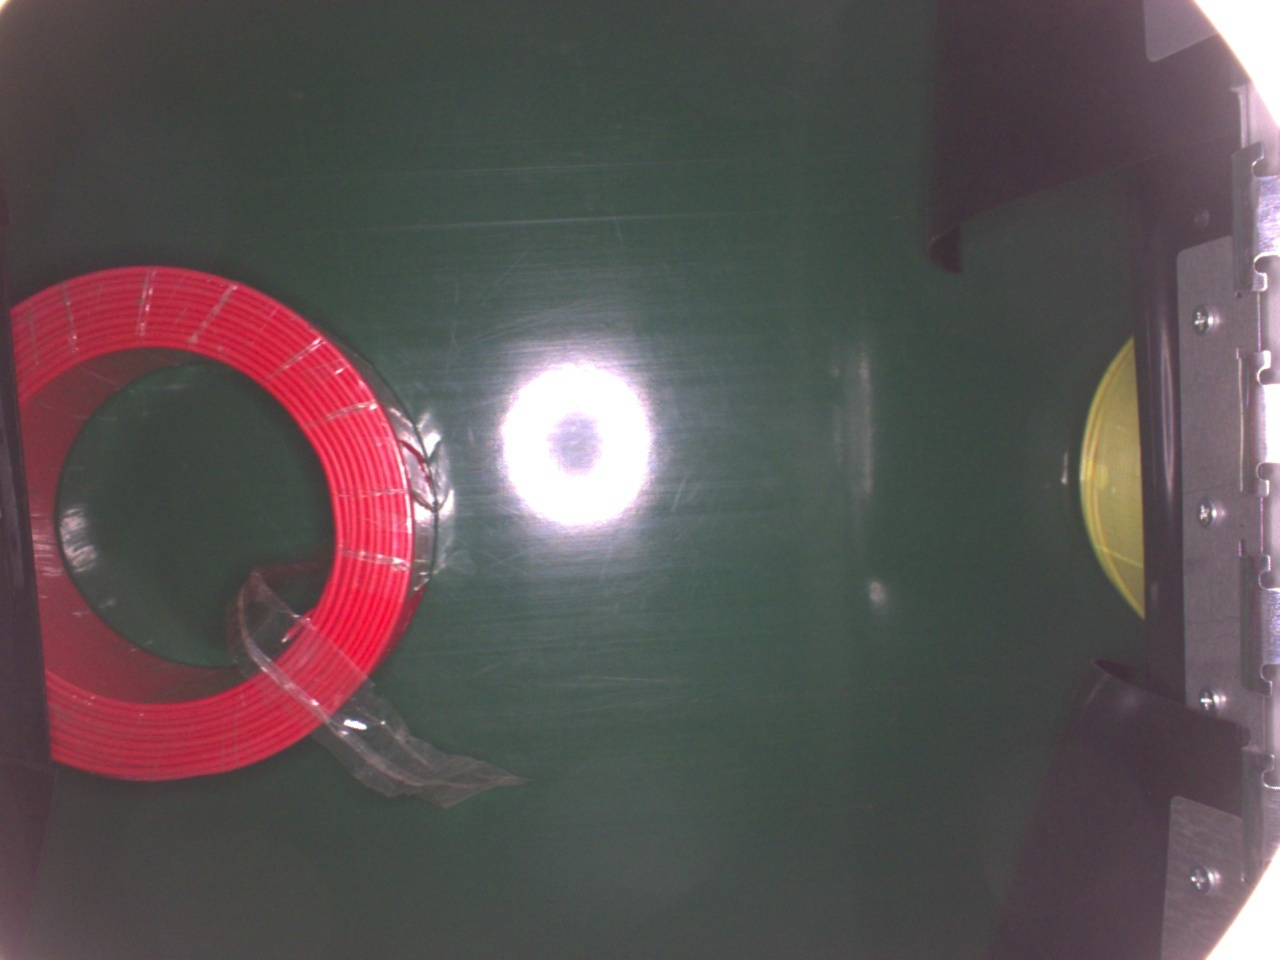red: (8, 262, 439, 787)
